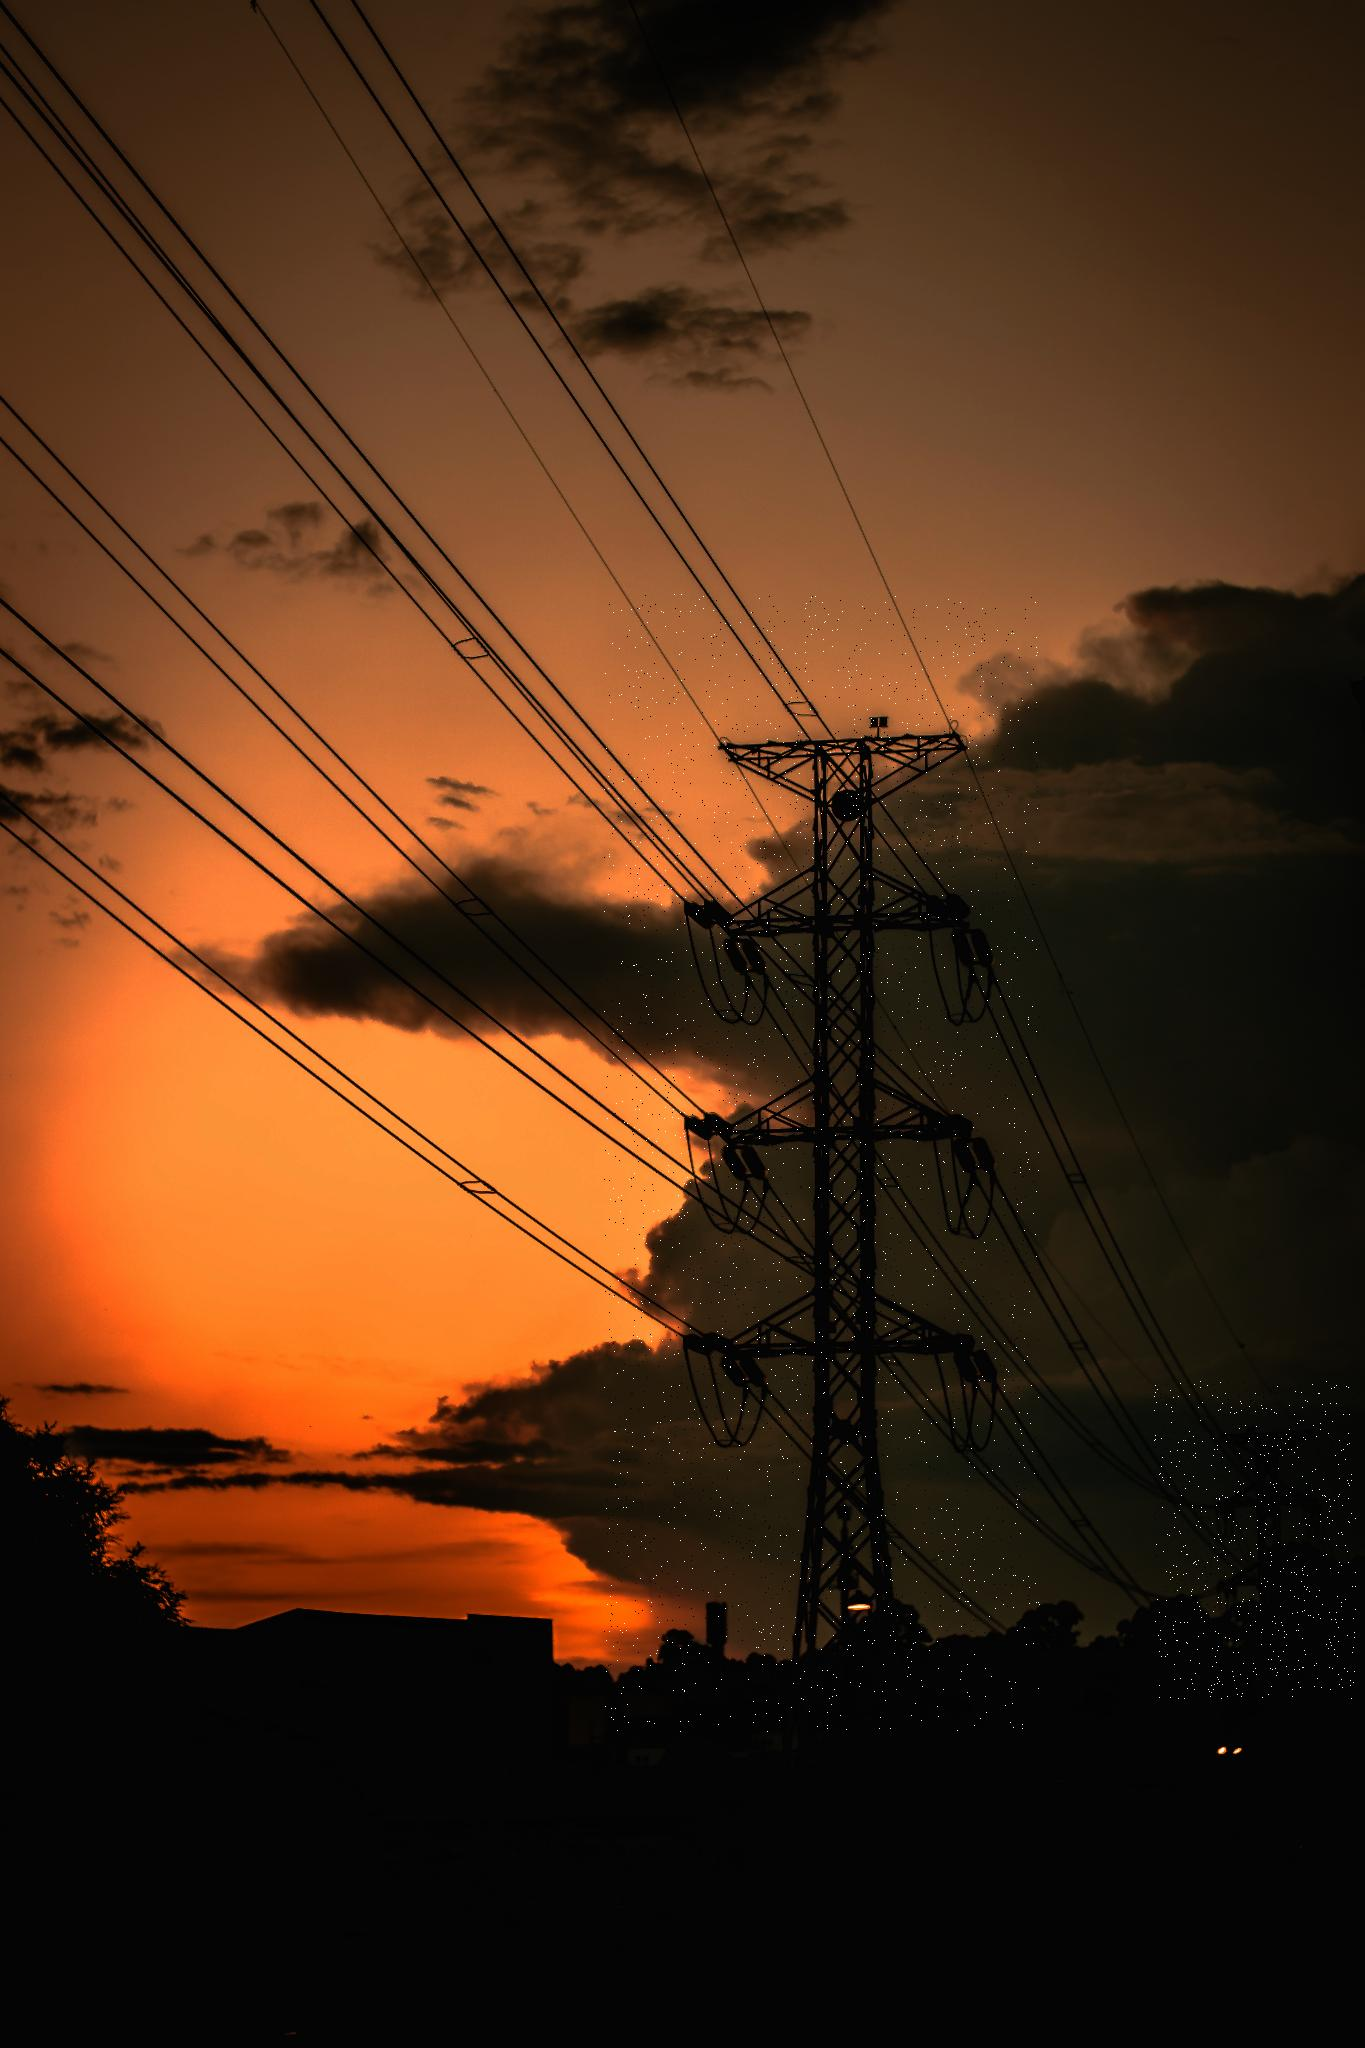cable tower: (603, 594, 1041, 1733), (1155, 1381, 1356, 1699)
